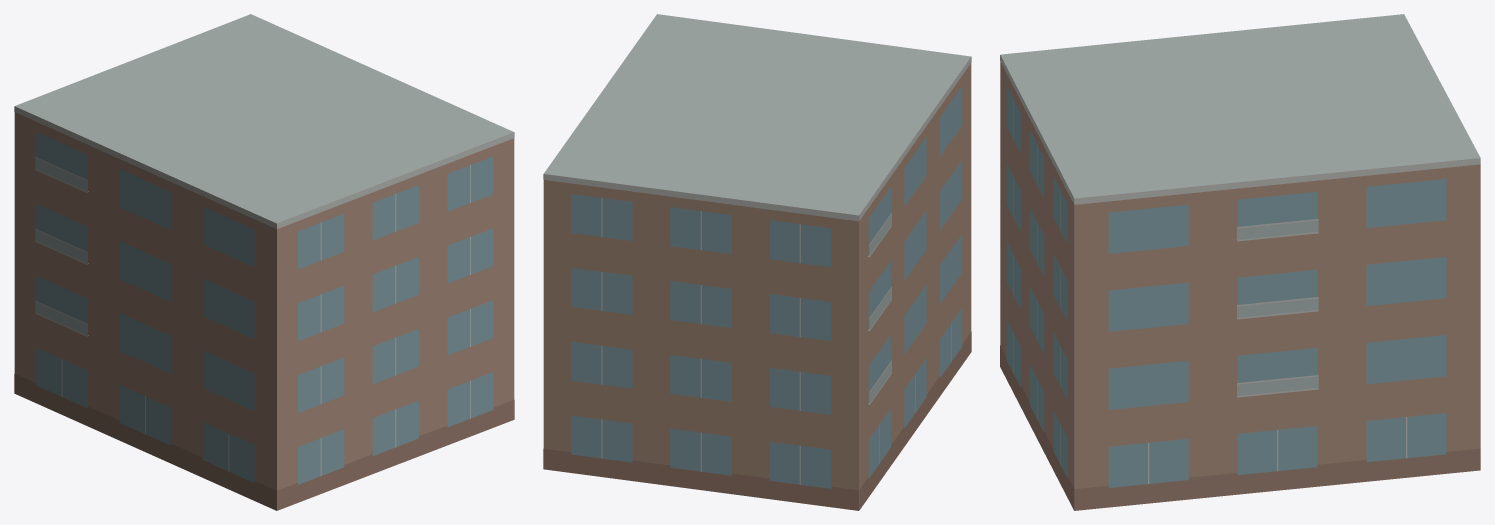
The model's file is survey-upis-32813365.glb.
3 renders of one model, left to right at view 1: azimuth 30°, elevation 25°; view 2: azimuth 150°, elevation 25°; view 3: azimuth 270°, elevation 25°, orthographic. The views are drawn at different scales.
Parts seen in each view (by area): view 1: survey-upis-32813365.tmp; view 2: survey-upis-32813365.tmp; view 3: survey-upis-32813365.tmp.
Boxes of the visible parts, box(x1,y1,x2,y2) form: survey-upis-32813365.tmp: box(14, 14, 514, 510); survey-upis-32813365.tmp: box(543, 14, 971, 510); survey-upis-32813365.tmp: box(1000, 14, 1480, 510).
Bounding box in the file's own units: 15.48 × 12.2 × 17.03.
